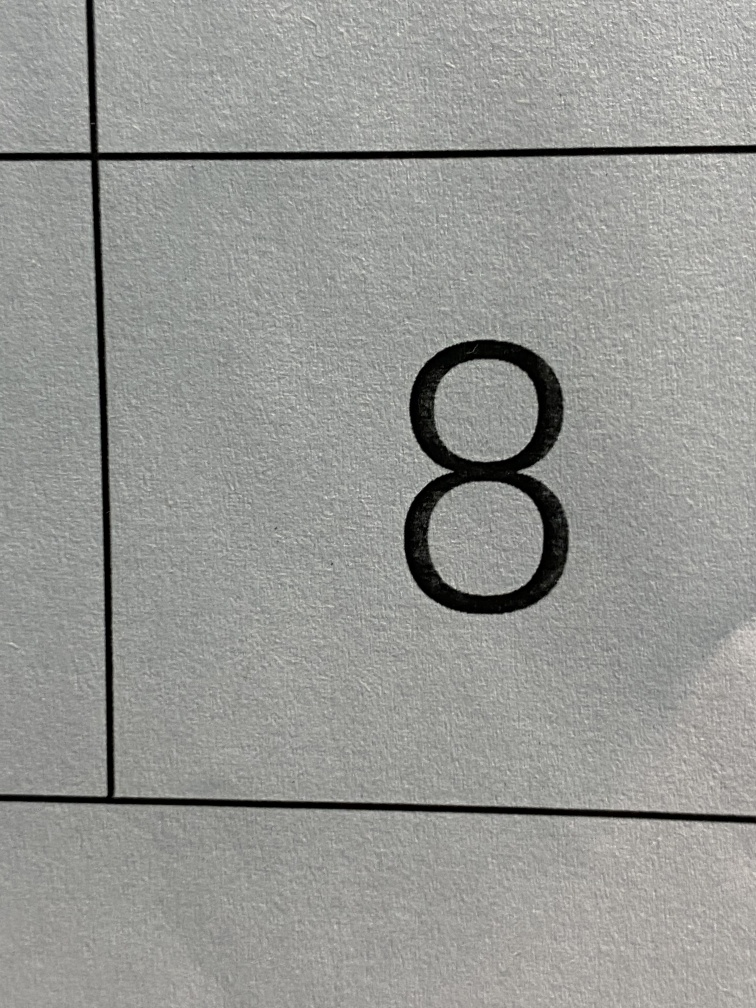eight: (340, 291, 635, 675)
